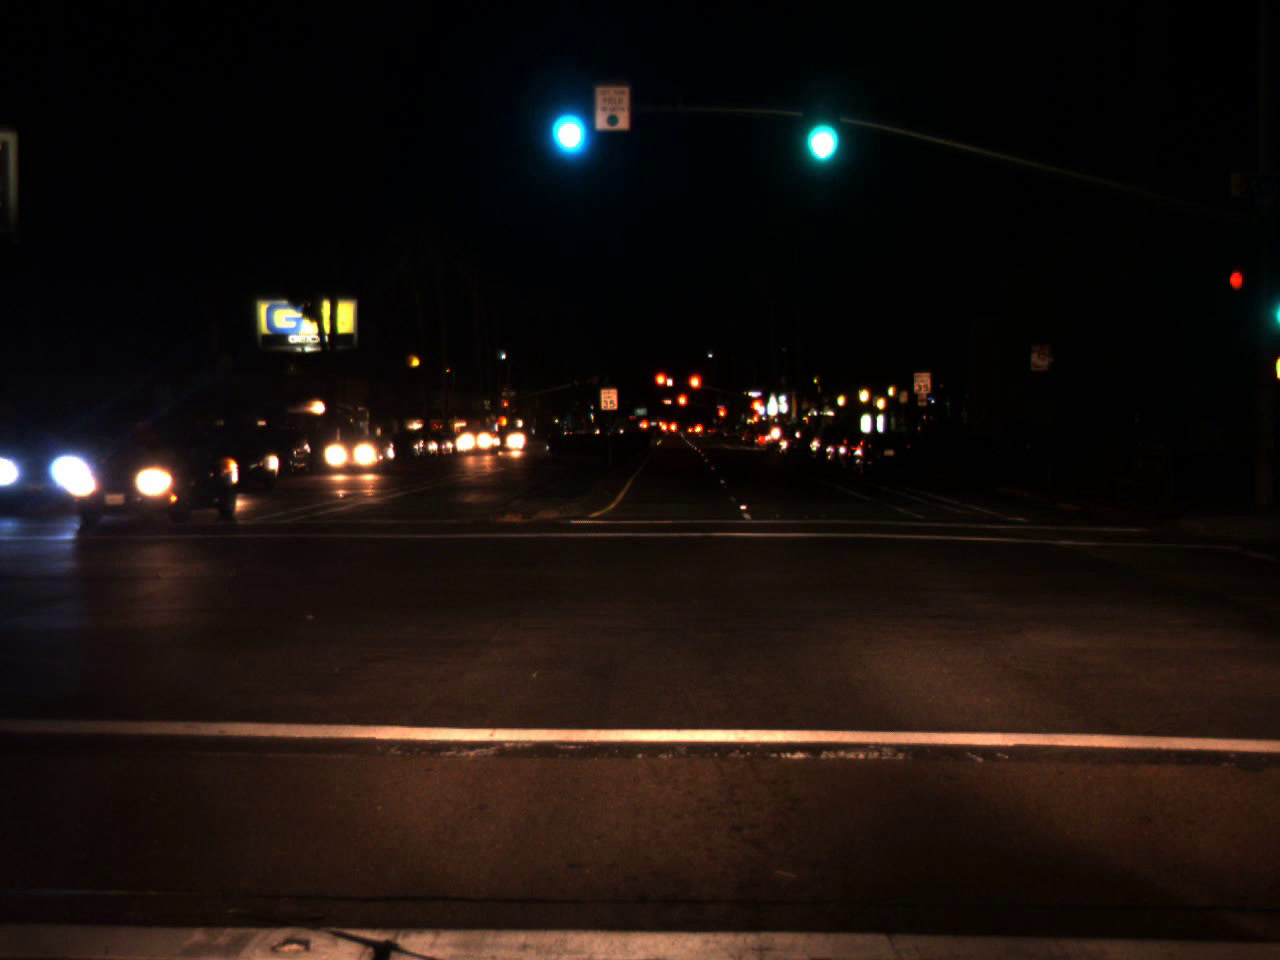go: (797, 86, 842, 173), (547, 89, 586, 158)
stop: (749, 396, 764, 431), (687, 373, 702, 405), (653, 371, 669, 398), (675, 392, 688, 419), (717, 406, 726, 427), (503, 401, 509, 411)
